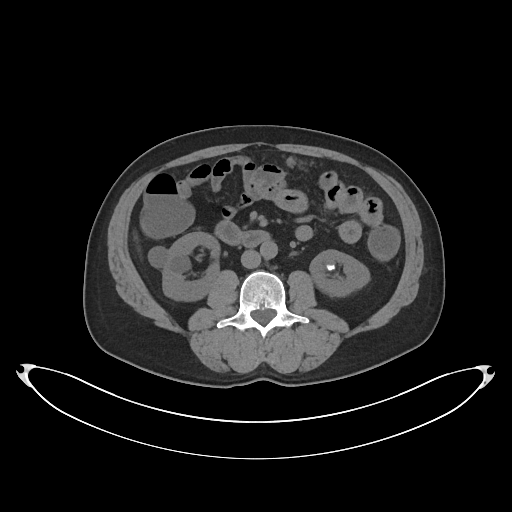Lesion: (321, 258, 339, 275)
